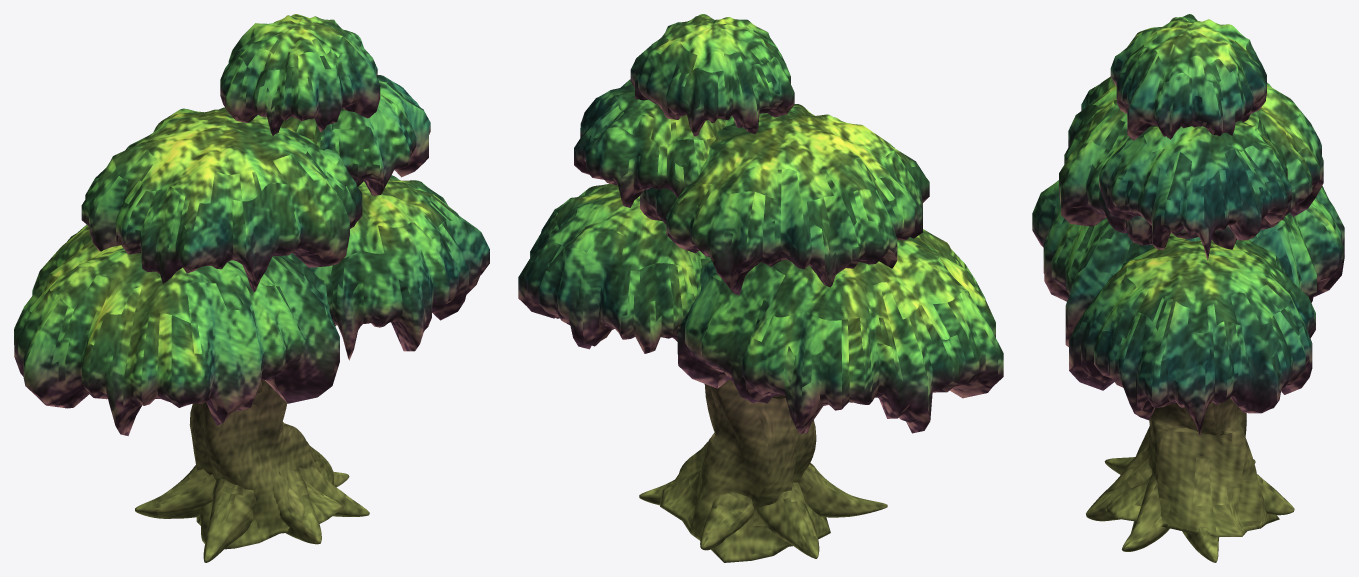
The model's file is tiered-canopy-elder.glb.
The picture shows the model from 3 angles, left to right: view 1: azimuth 30°, elevation 25°; view 2: azimuth 150°, elevation 25°; view 3: azimuth 270°, elevation 25°; orthographic projection. The views are drawn at different scales.
Parts seen in each view (by area): view 1: Tiered canopy elder — original; view 2: Tiered canopy elder — original; view 3: Tiered canopy elder — original.
Boxes of the visible parts, left/top/right/bottom form: Tiered canopy elder — original: left=14, top=14, right=489, bottom=562; Tiered canopy elder — original: left=518, top=14, right=1003, bottom=562; Tiered canopy elder — original: left=1032, top=14, right=1344, bottom=562.
Size of the model in its own units: 5.26 by 5.47 by 2.98.
1 material, 1 textured.
